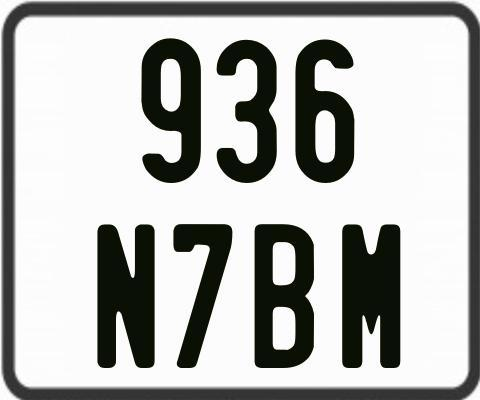3: (215, 38, 281, 181)
6: (295, 36, 355, 185)
7: (172, 222, 237, 367)
9: (140, 37, 202, 184)
B: (255, 224, 316, 369)
M: (341, 224, 399, 369)
N: (94, 222, 156, 366)
